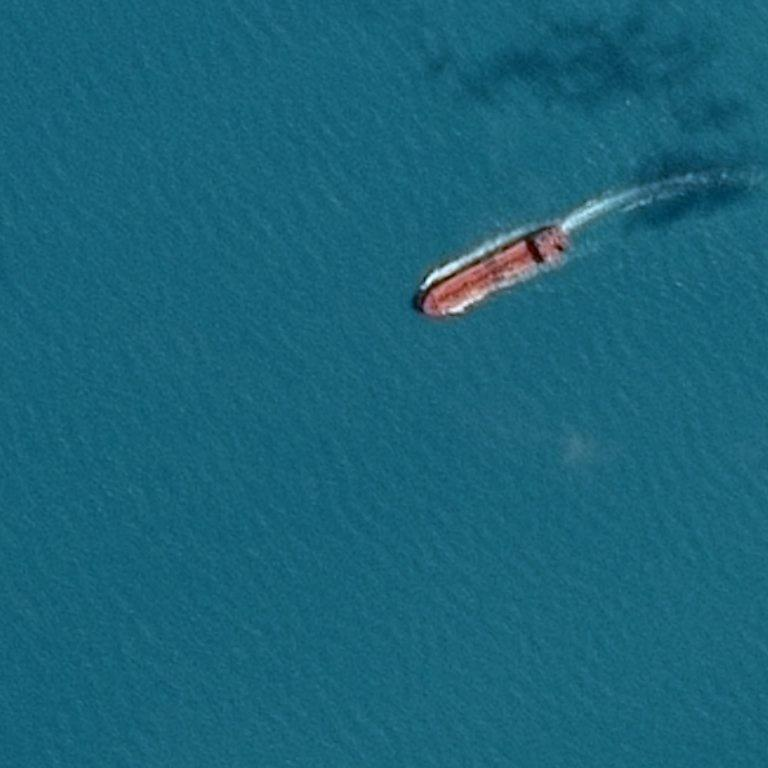ship: (408, 243, 582, 286), (421, 305, 431, 315), (551, 222, 560, 232), (565, 226, 573, 236)
